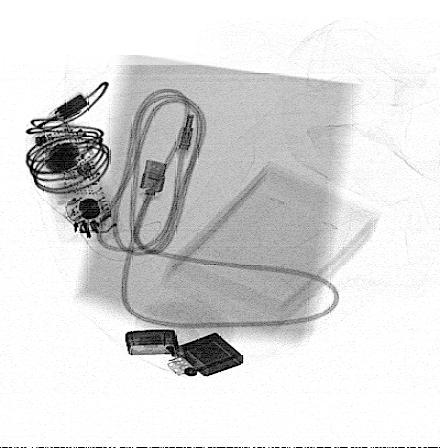Lighter: (124, 329, 243, 378)
